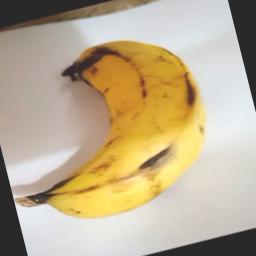Banana Unripe: (0, 20, 229, 238)
